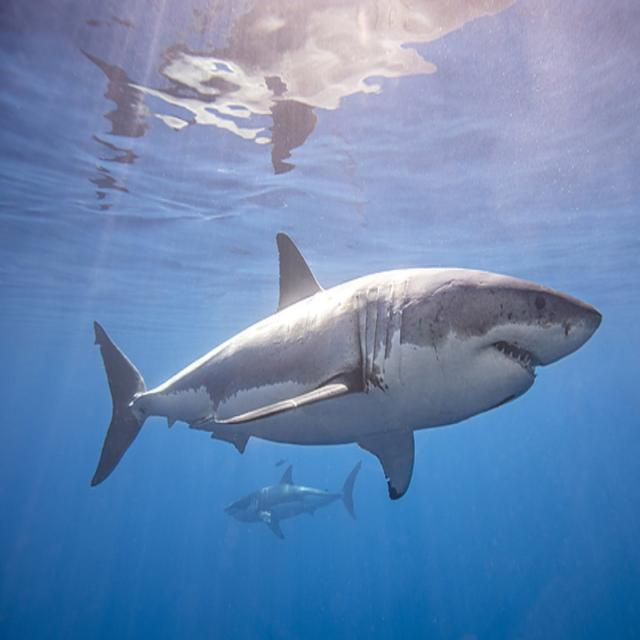shark: (92, 233, 600, 499)
